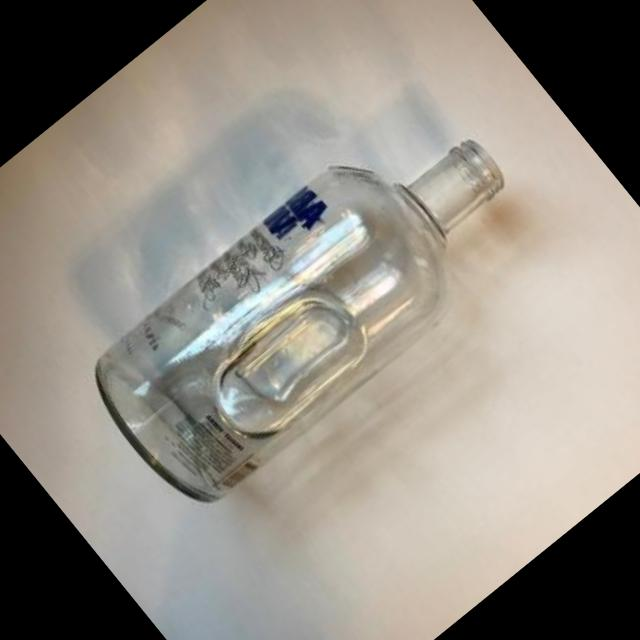BotolKaca: (70, 78, 556, 525)
